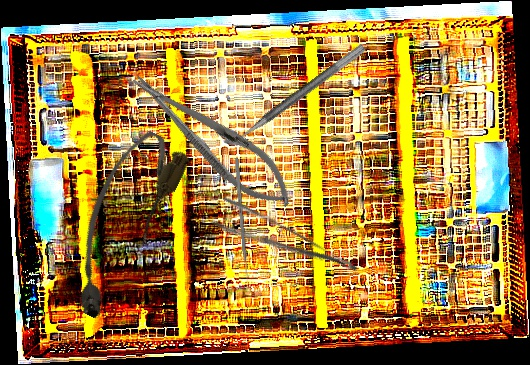Cannula: (48, 123, 194, 325)
Dressing Forceps: (209, 193, 361, 295)
Fixation Ring: (215, 31, 368, 152)
Needle Holder: (120, 58, 306, 221)
Pusher: (234, 158, 250, 286)
